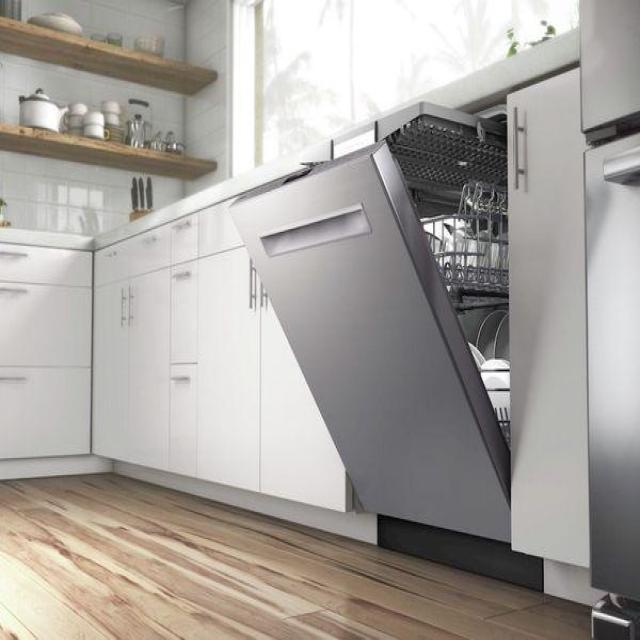dishwasher: (237, 95, 548, 593)
